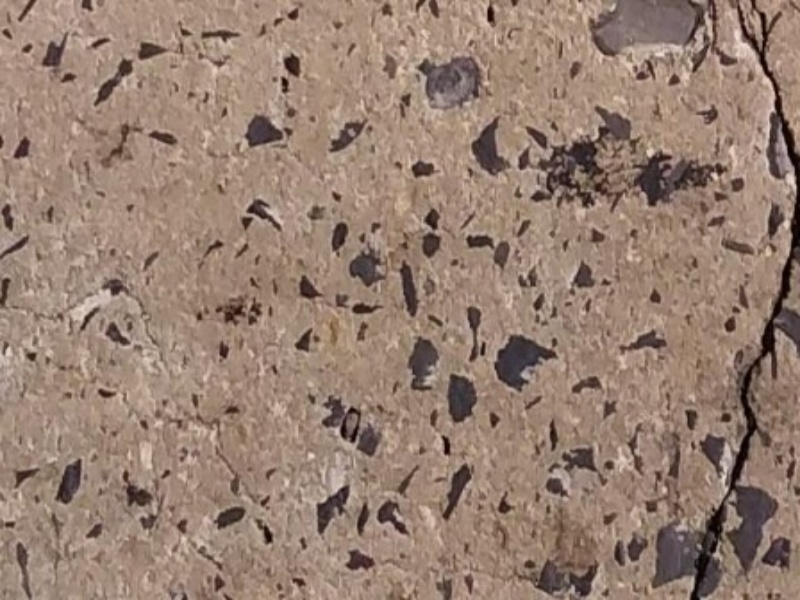crack: (706, 10, 793, 594)
